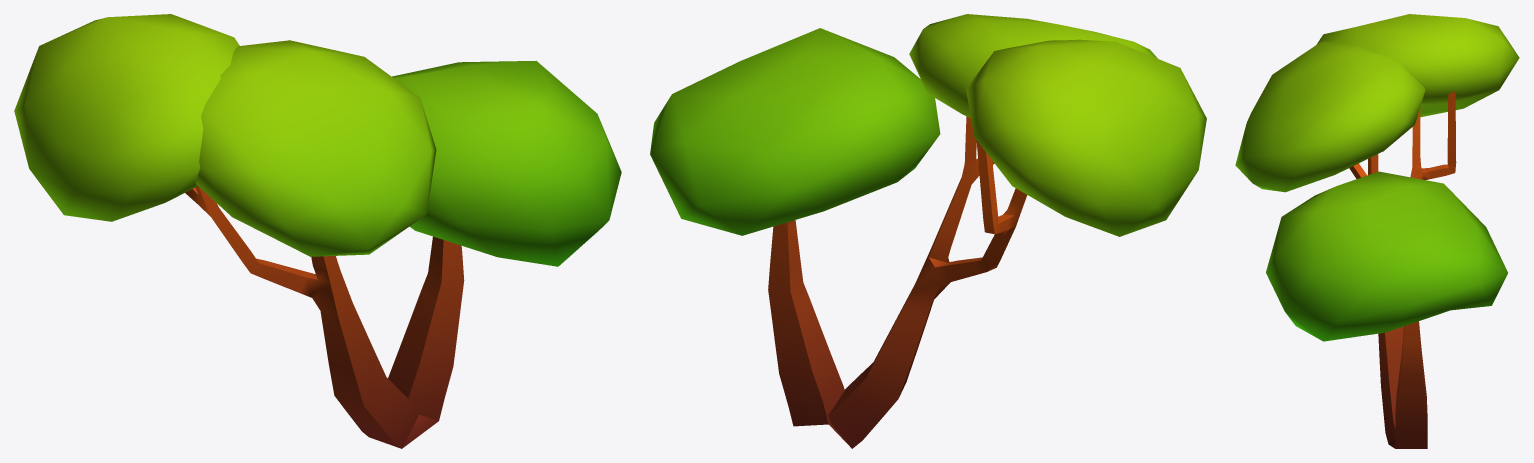
File: tree-3.glb
3 renders of one model, left to right at view 1: azimuth 30°, elevation 25°; view 2: azimuth 150°, elevation 25°; view 3: azimuth 270°, elevation 25°, orthographic. The views are drawn at different scales.
Parts seen in each view (by area): view 1: 03-tree-root_gradinet-image-texure_0; view 2: 03-tree-root_gradinet-image-texure_0; view 3: 03-tree-root_gradinet-image-texure_0.
Boxes of the visible parts, left/top/right/bottom form: 03-tree-root_gradinet-image-texure_0: left=14, top=14, right=621, bottom=448; 03-tree-root_gradinet-image-texure_0: left=650, top=14, right=1206, bottom=448; 03-tree-root_gradinet-image-texure_0: left=1235, top=14, right=1519, bottom=448.
Size of the model in its own units: 16.06 by 13.09 by 9.96.
1 material, 1 textured.
